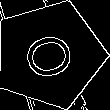O_E: (17, 27, 82, 83)
